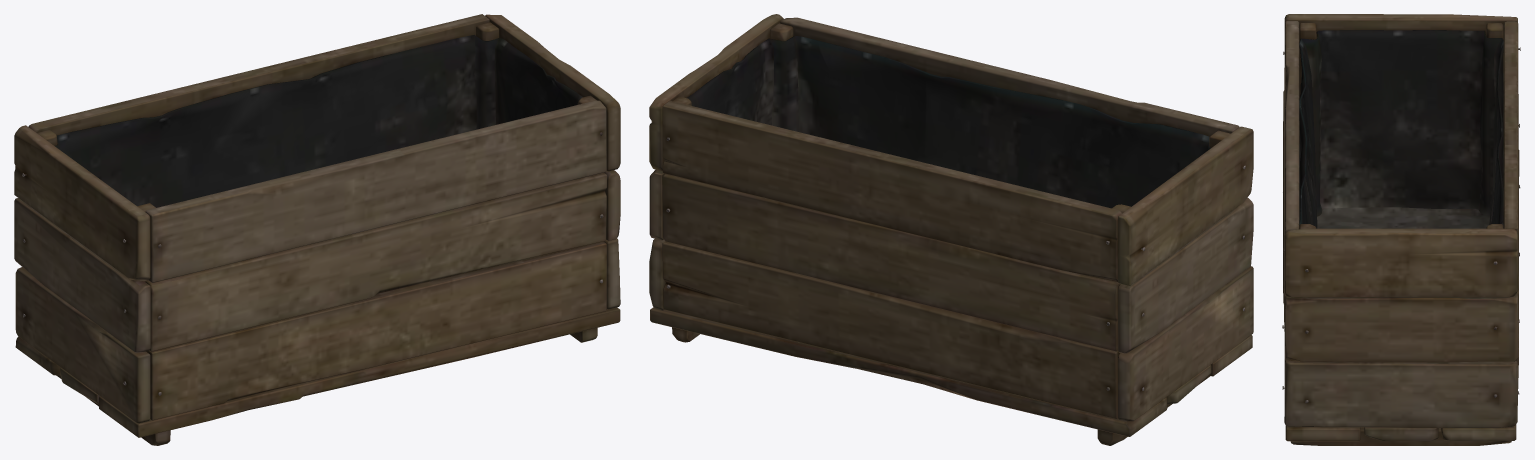
The model's file is planter_box_01.glb.
3 views of the same model, side by side, from view 1: azimuth 30°, elevation 25°; view 2: azimuth 150°, elevation 25°; view 3: azimuth 270°, elevation 25° (orthographic). The views are drawn at different scales.
Parts seen in each view (by area): view 1: planter_box_01; view 2: planter_box_01; view 3: planter_box_01.
Boxes of the visible parts, left/top/right/bottom form: planter_box_01: left=14, top=14, right=620, bottom=445; planter_box_01: left=649, top=14, right=1253, bottom=445; planter_box_01: left=1282, top=14, right=1520, bottom=445.
Size of the model in its own units: 0.9126 by 0.425 by 0.4137.
1 material, 1 textured.
